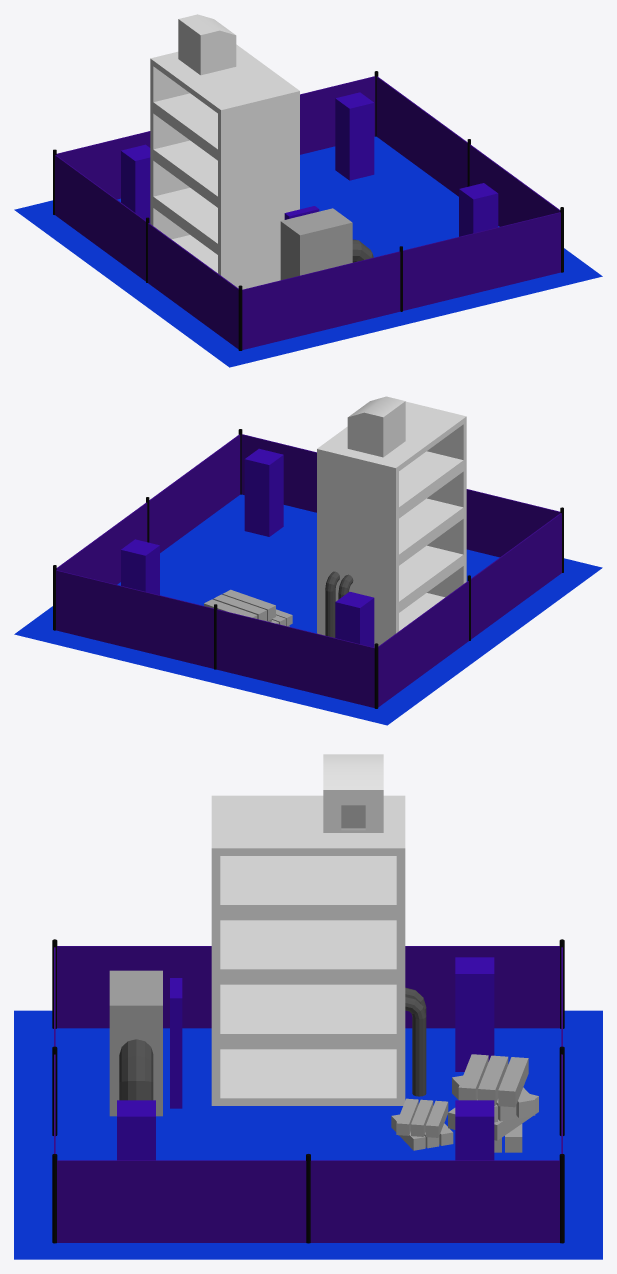
Rendered from 88_blue.fbx.
3 renders of one model, top to bottom at view 1: azimuth 30°, elevation 25°; view 2: azimuth 150°, elevation 25°; view 3: azimuth 270°, elevation 25°, orthographic. The views are drawn at different scales.
Parts seen in each view (by area): view 1: pCube229, ght_ght4, pCube228, pCube227, pCube222, pCube217, pCube225, pCube233, pCube239, pCube226, pCube224, pCube241 (+3 smaller); view 2: pCube229, ght_ght4, pCube223, pCube224, pCube217, pCube222, pCube226, pCube228, pCube238, pCube225, pCube241, pCube227 (+5 smaller); view 3: ght_ght4, pCube229, pCube225, pCube226, pCube222, pCube217, pCube233, pCube241, pCube240, pCube239, pCube238, pCylinder44 (+5 smaller).
Boxes of the visible parts, <box> form: pCube229: <box>150,44,299,289</box>; ght_ght4: <box>14,136,602,367</box>; pCube228: <box>242,251,400,349</box>; pCube227: <box>403,212,560,310</box>; pCube222: <box>55,155,145,281</box>; pCube217: <box>148,223,238,349</box>; pCube225: <box>376,76,467,196</box>; pCube233: <box>280,208,352,280</box>; pCube239: <box>335,92,374,180</box>; pCube226: <box>469,144,560,226</box>; pCube224: <box>300,76,375,154</box>; pCube241: <box>178,14,236,75</box>; pCube229: <box>317,401,466,647</box>; ght_ght4: <box>14,494,602,725</box>; pCube223: <box>216,609,374,707</box>; pCube224: <box>56,570,213,668</box>; pCube217: <box>471,513,561,639</box>; pCube222: <box>378,581,468,706</box>; pCube226: <box>149,434,240,552</box>; pCube228: <box>466,489,560,557</box>; pCube238: <box>244,448,283,536</box>; pCube225: <box>56,502,147,584</box>; pCube241: <box>347,396,405,457</box>; pCube227: <box>241,434,316,512</box>; ght_ght4: <box>14,1010,602,1259</box>; pCube229: <box>211,795,405,1105</box>; pCube225: <box>310,1160,559,1242</box>; pCube226: <box>57,1160,306,1242</box>; pCube222: <box>405,946,559,1028</box>; pCube217: <box>57,946,211,1028</box>; pCube233: <box>109,970,162,1116</box>; pCube241: <box>323,754,383,832</box>; pCube240: <box>455,957,494,1071</box>; pCube239: <box>455,1100,494,1160</box>; pCube238: <box>117,1100,155,1160</box>; pCylinder44: <box>119,1039,153,1100</box>.
Size of the model in its own units: 8 by 4.78 by 8.
